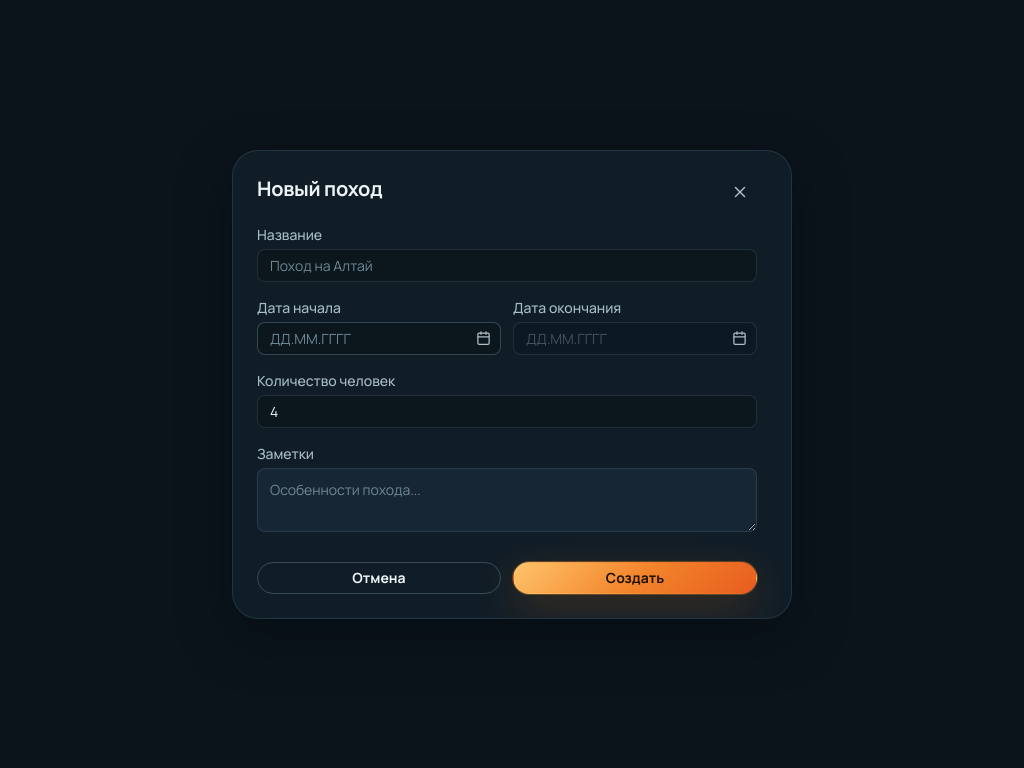
it: TripForm — валидация при submit › ошибки чистятся после правки поля
Click the button "Создать". click: click(635, 578)
box: [513,562,757,594]
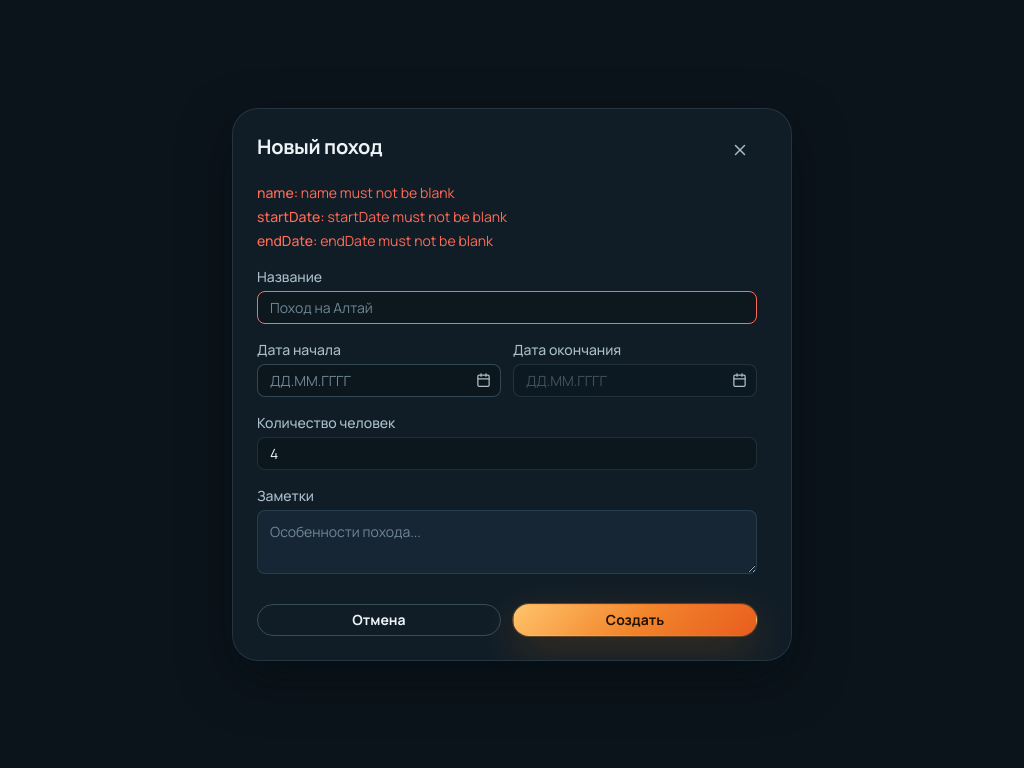
Expected: the message is shown, [257,182,507,250]
Type "Таёжный" into the field labelled "Название". click: (507, 307)
box: [257,290,757,324]
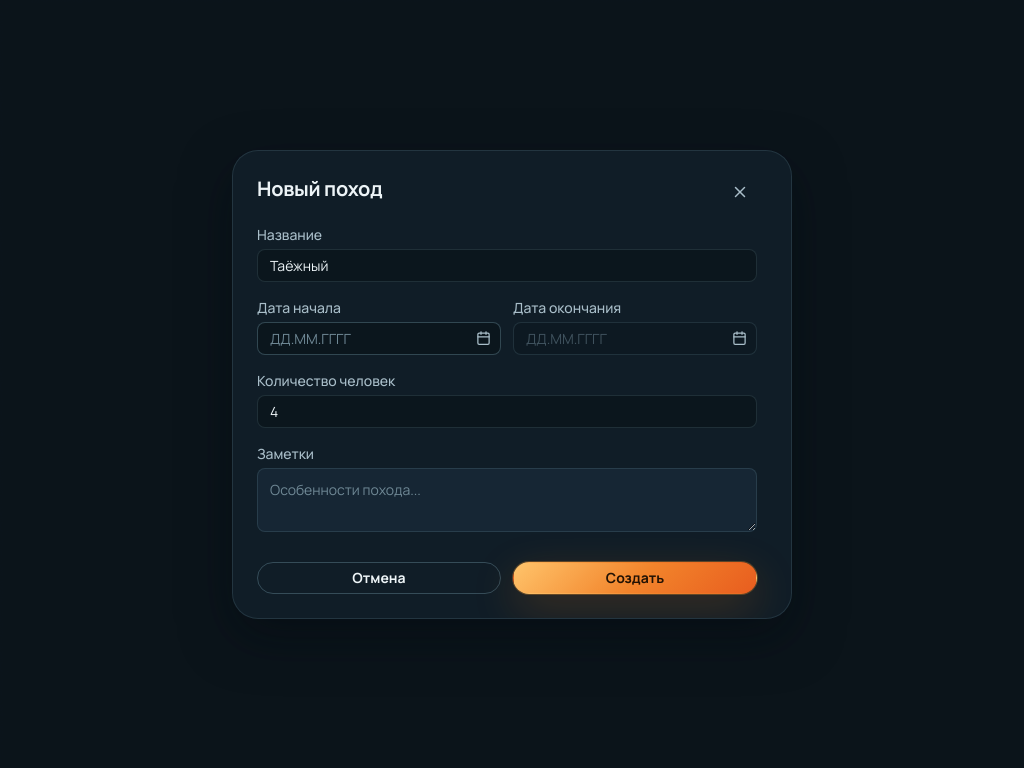
Expected: the message is gone
